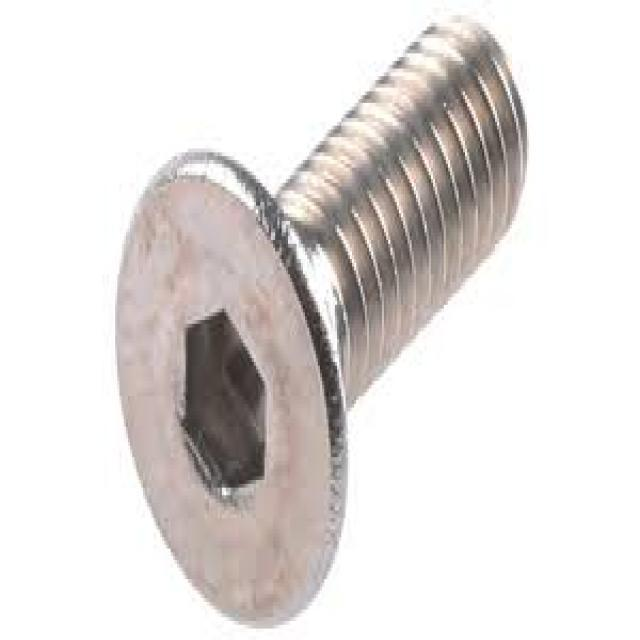Screw: (111, 15, 531, 632)
